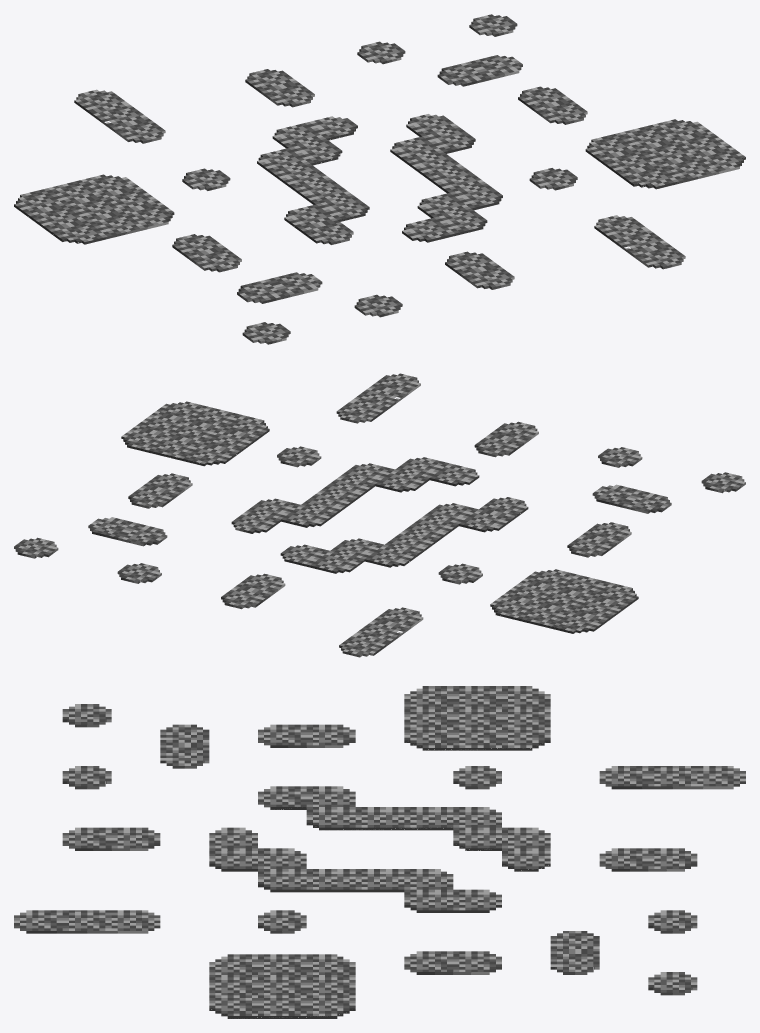
The model's file is st_level_01.FBX.
3 renders of one model, top to bottom at view 1: azimuth 30°, elevation 25°; view 2: azimuth 150°, elevation 25°; view 3: azimuth 270°, elevation 25°, orthographic. The views are drawn at different scales.
Visible parts, largest first — view 1: Plane001; view 2: Plane001; view 3: Plane001.
Part boxes in pixels (x1,y1,x2,y2): Plane001: [14, 14, 745, 344]; Plane001: [14, 373, 745, 657]; Plane001: [14, 686, 745, 1018].
Size of the model in its own units: 2560 by 20 by 2400.
